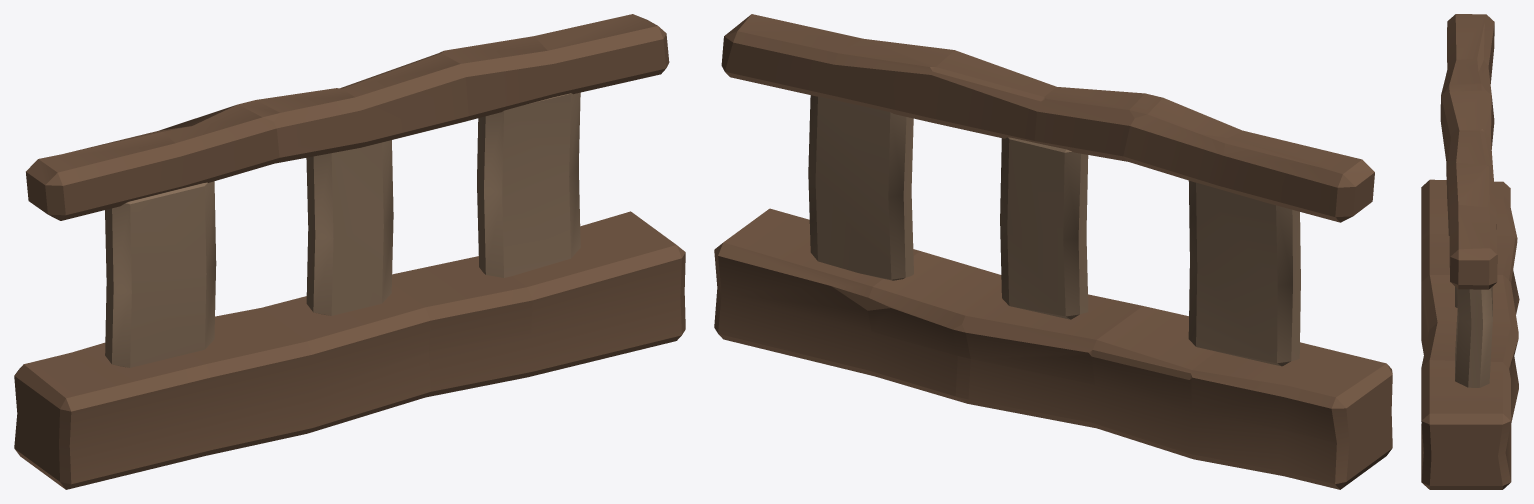
The model's file is balcony.fbx.
3 views of the same model, side by side, from view 1: azimuth 30°, elevation 25°; view 2: azimuth 150°, elevation 25°; view 3: azimuth 270°, elevation 25° (orthographic). The views are drawn at different scales.
Parts seen in each view (by area): view 1: Wall_03_Edges.002, Wall_03_Center; view 2: Wall_03_Edges.002, Wall_03_Center; view 3: Wall_03_Edges.002, Wall_03_Center.
Part boxes in pixels (bbox=[...]): Wall_03_Edges.002: bbox=[14, 14, 685, 489]; Wall_03_Center: bbox=[105, 92, 580, 367]; Wall_03_Edges.002: bbox=[714, 14, 1392, 489]; Wall_03_Center: bbox=[808, 95, 1300, 366]; Wall_03_Edges.002: bbox=[1421, 14, 1519, 489]; Wall_03_Center: bbox=[1446, 169, 1492, 387].
Size of the model in its own units: 1.02 by 0.4894 by 0.1728.
